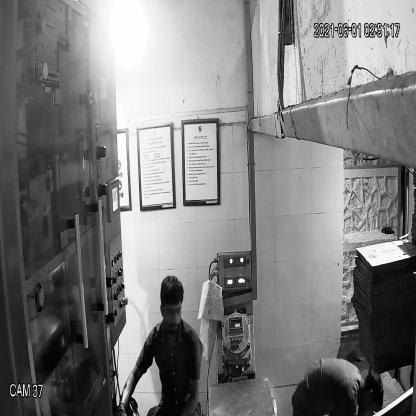no_goggles: (156, 299, 188, 322)
